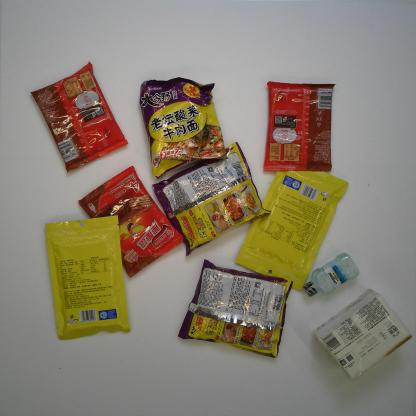Dessert: (78, 165, 183, 278), (29, 61, 129, 174), (262, 80, 336, 173)
Dried Fruit: (233, 167, 350, 292), (44, 214, 132, 341)
Instant Noodles: (152, 142, 272, 257), (176, 258, 293, 360), (138, 77, 229, 181)
Personal Hygiene: (303, 252, 360, 298)
Tissue: (312, 288, 412, 383)
